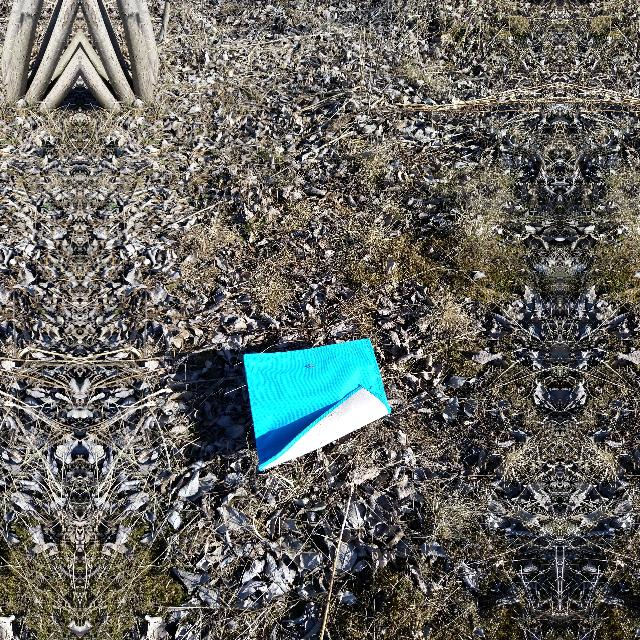Paper: (238, 334, 394, 474)
